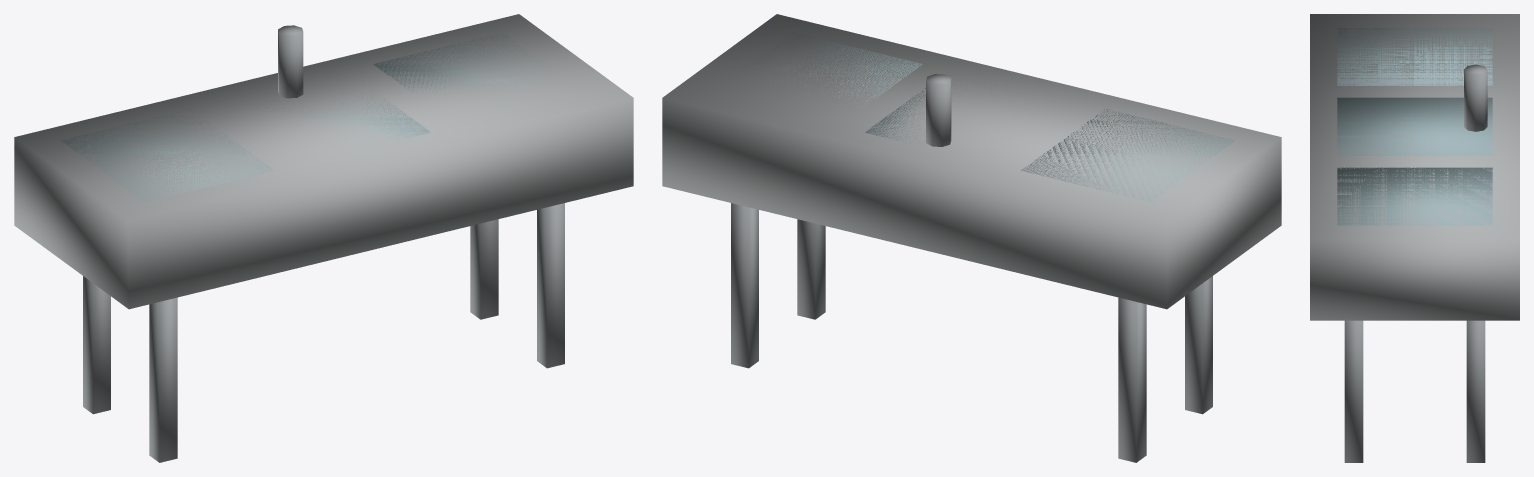
File: three_bay_sink__squat.glb
3 renders of one model, left to right at view 1: azimuth 30°, elevation 25°; view 2: azimuth 150°, elevation 25°; view 3: azimuth 270°, elevation 25°, orthographic. The views are drawn at different scales.
Parts seen in each view (by area): view 1: world; view 2: world; view 3: world.
Part boxes in pixels (x1,y1,x2,y2): world: (14,14,633,462); world: (662,14,1281,462); world: (1310,14,1519,462).
Bounding box in the file's own units: 1.7 × 1.07 × 0.6696.
